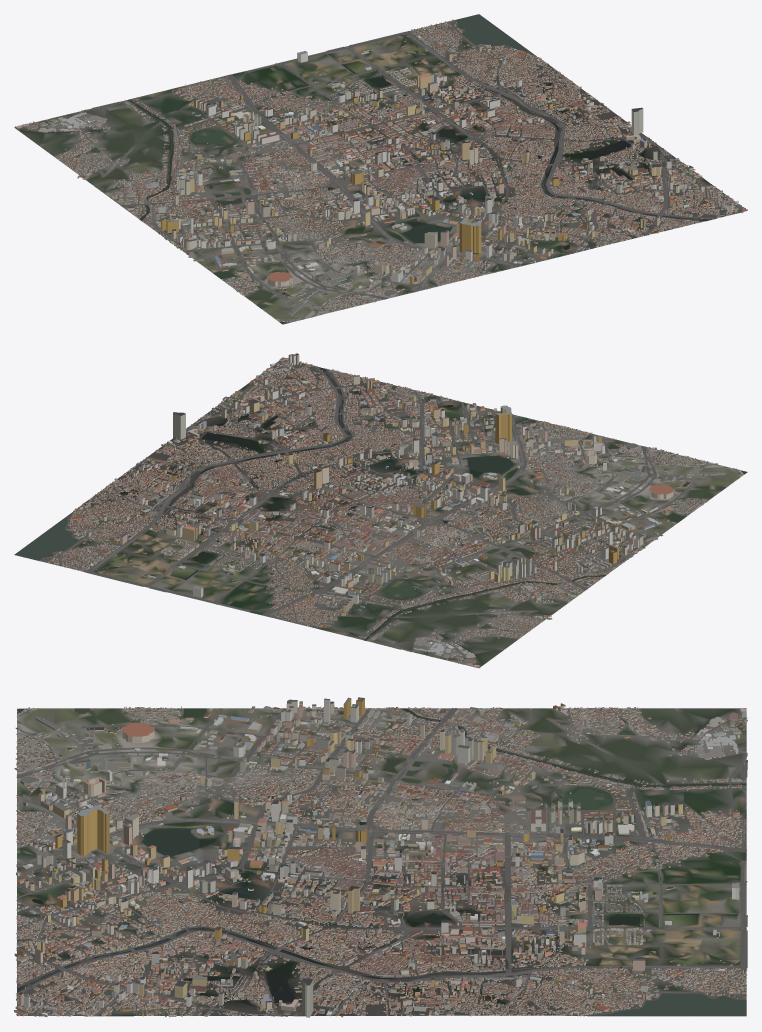
The picture shows the model from 3 angles, top to bottom: view 1: azimuth 30°, elevation 25°; view 2: azimuth 150°, elevation 25°; view 3: azimuth 270°, elevation 25°; orthographic projection. The views are drawn at different scales.
Visible parts, largest first — view 1: buildings, ground, roads, water; view 2: buildings, ground, roads, water; view 3: buildings, ground, roads, water.
Part boxes in pixels (box(x1,y1,x2,y2)): buildings: box(15, 19, 747, 322); ground: box(14, 20, 745, 324); roads: box(33, 20, 741, 321); water: box(38, 14, 711, 323); buildings: box(39, 353, 743, 667); ground: box(23, 360, 747, 668); roads: box(38, 360, 742, 663); water: box(14, 367, 746, 656); buildings: box(14, 697, 747, 1017); ground: box(17, 708, 746, 1016); roads: box(16, 708, 747, 1016); water: box(17, 708, 746, 1016).
Size of the model in its own units: 5687 by 340 by 5641.
